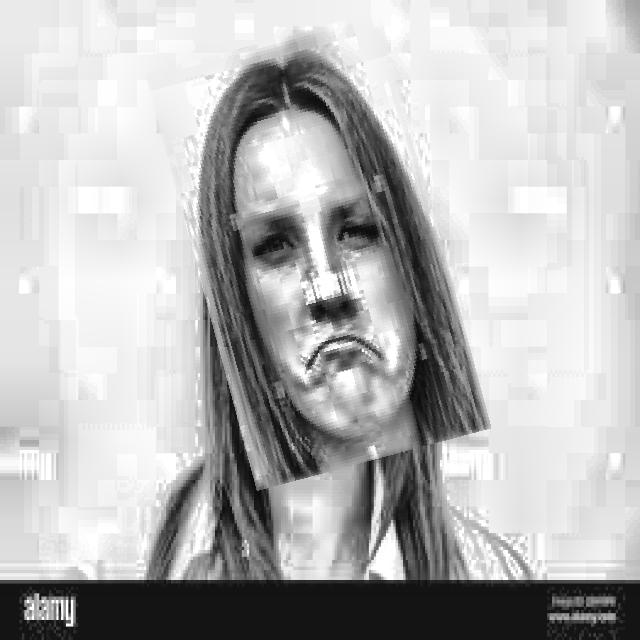sad: (171, 23, 466, 479)
